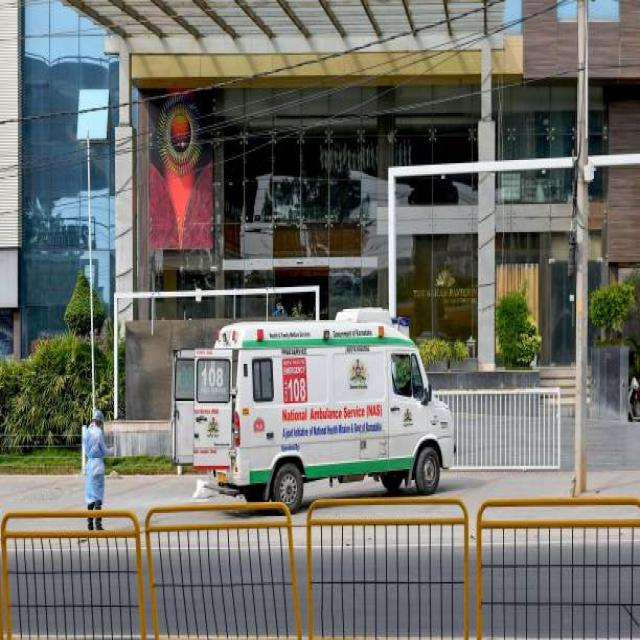ambulance: (170, 308, 456, 500)
